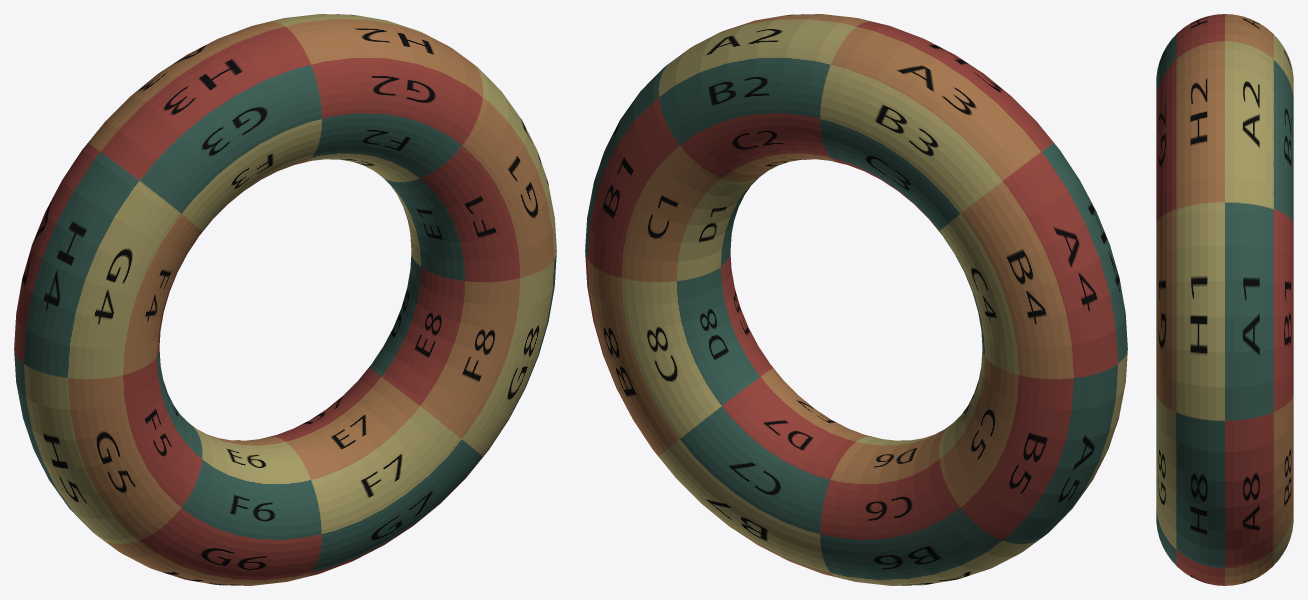
File: texture_torus_R26_r25.glb
3 renders of one model, left to right at view 1: azimuth 30°, elevation 25°; view 2: azimuth 150°, elevation 25°; view 3: azimuth 270°, elevation 25°, orthographic. The views are drawn at different scales.
Parts seen in each view (by area): view 1: world; view 2: world; view 3: world.
Part boxes in pixels (box(x1,y1,x2,y2)): world: box(14, 14, 556, 585); world: box(585, 14, 1127, 585); world: box(1156, 14, 1293, 585).
Bounding box in the file's own units: 36 × 35.93 × 8.65.
1 material, 1 textured.
